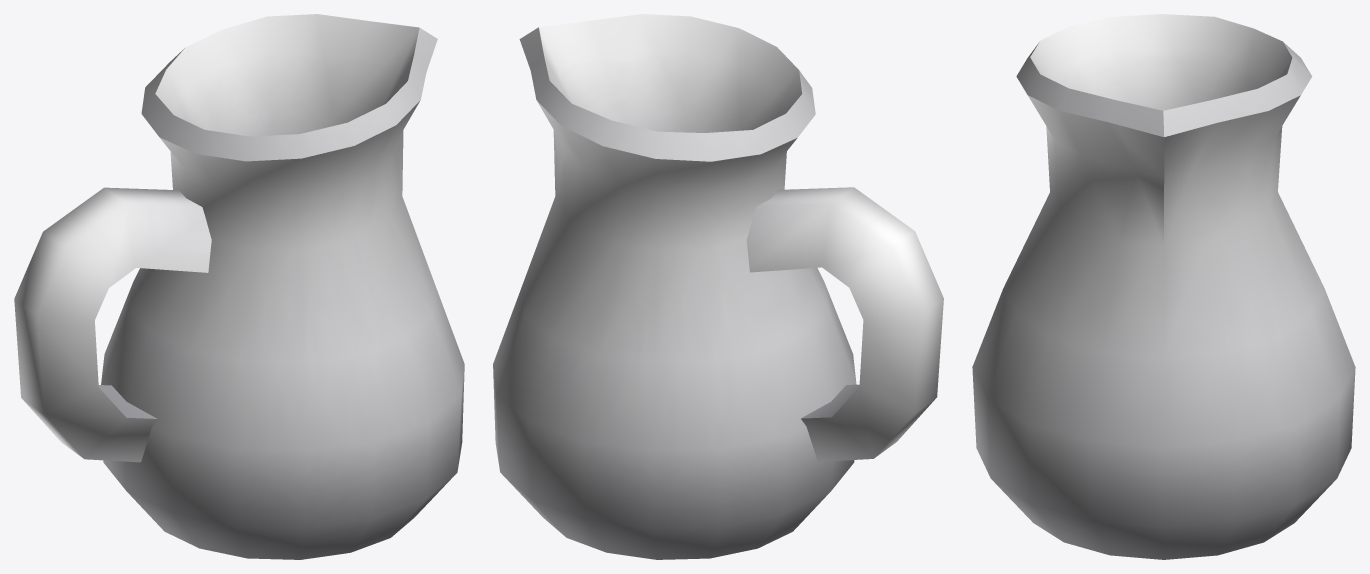
File: m_Creamer01_Full.fbx
3 views of the same model, side by side, from view 1: azimuth 30°, elevation 25°; view 2: azimuth 150°, elevation 25°; view 3: azimuth 270°, elevation 25° (orthographic). The views are drawn at different scales.
Parts seen in each view (by area): view 1: m_Creamer01_Full; view 2: m_Creamer01_Full; view 3: m_Creamer01_Full.
Part boxes in pixels (bbox=[...]): m_Creamer01_Full: bbox=[14, 14, 464, 559]; m_Creamer01_Full: bbox=[493, 14, 943, 559]; m_Creamer01_Full: bbox=[972, 14, 1355, 559].
Size of the model in its own units: 9.64 by 9.78 by 7.41.
